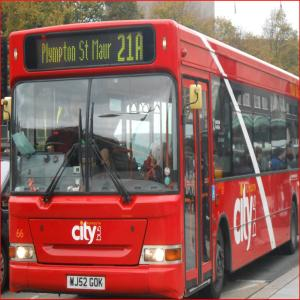Vehicle-registration-plate: (68, 277, 107, 290)
